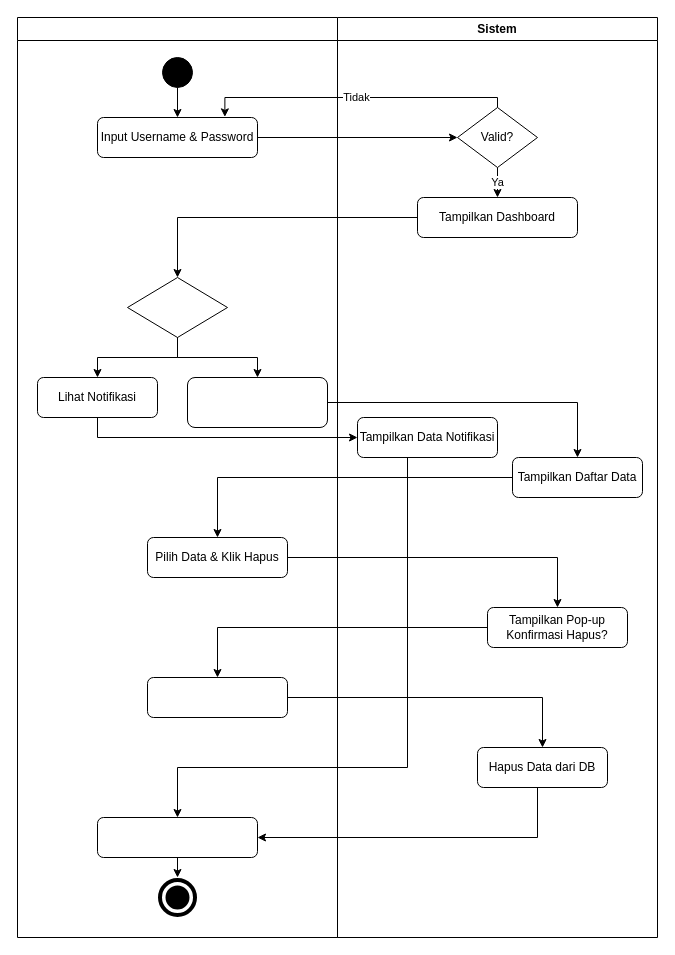
This 675x955 diagram has some shape labels left out. The box of each missing label's shape, as (x1, y1, x2, y2) in pixels:
Konfirmasi: Ya: (146, 676, 288, 718)
Logout: (96, 816, 258, 858)
Menu Kelola Otomatisasi (Jadwal/Sensor/Robot): (186, 376, 328, 428)
Pilih Menu?: (126, 276, 228, 338)
Super Admin: (16, 16, 338, 938)
